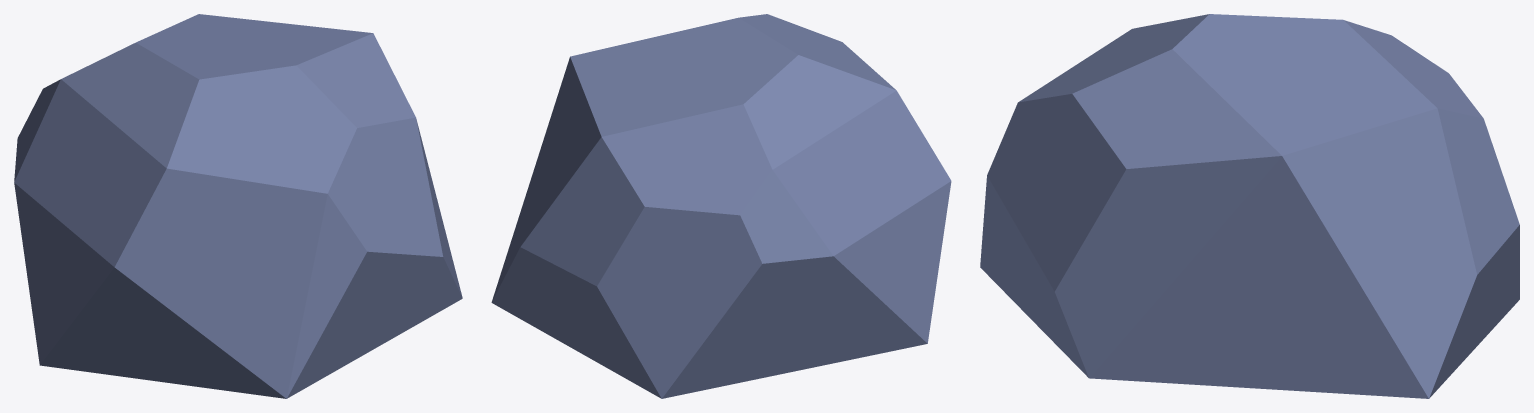
The model's file is Rock Granit 03.fbx.
3 renders of one model, left to right at view 1: azimuth 30°, elevation 25°; view 2: azimuth 150°, elevation 25°; view 3: azimuth 270°, elevation 25°, orthographic. The views are drawn at different scales.
Parts seen in each view (by area): view 1: Rock Granit 03; view 2: Rock Granit 03; view 3: Rock Granit 03.
Part boxes in pixels (bbox=[...]): Rock Granit 03: bbox=[14, 14, 462, 398]; Rock Granit 03: bbox=[491, 14, 951, 398]; Rock Granit 03: bbox=[980, 14, 1519, 398].
Bounding box in the file's own units: 142 × 97.49 × 163.
